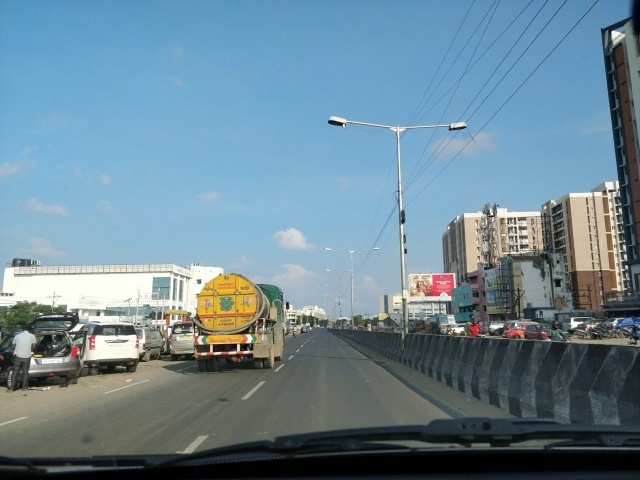car: (4, 310, 90, 386), (59, 315, 146, 374), (165, 321, 215, 359), (505, 321, 546, 338)
motorbike: (466, 314, 496, 366), (549, 321, 577, 364)
truck: (196, 281, 288, 369)
